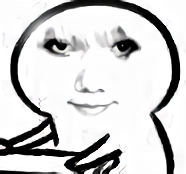dragon: (42, 33, 141, 113)
